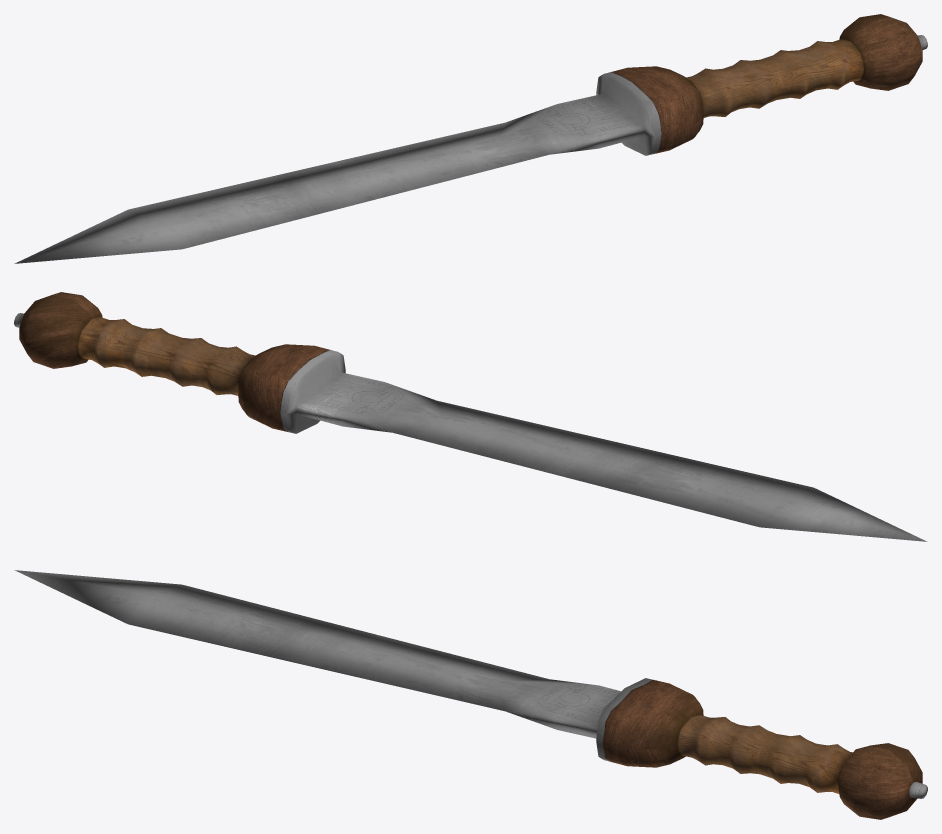
The model's file is GladiusChangedPivot.fbx.
The picture shows the model from 3 angles, top to bottom: view 1: azimuth 30°, elevation 25°; view 2: azimuth 150°, elevation 25°; view 3: azimuth 330°, elevation 25°; orthographic projection.
Parts seen in each view (by area): view 1: defaultMaterial.001; view 2: defaultMaterial.001; view 3: defaultMaterial.001.
Part boxes in pixels (x1,y1,x2,y2): defaultMaterial.001: (14,14,927,263); defaultMaterial.001: (14,292,927,541); defaultMaterial.001: (14,570,927,819).
Size of the model in its own units: 48.19 by 3.4 by 5.42.
